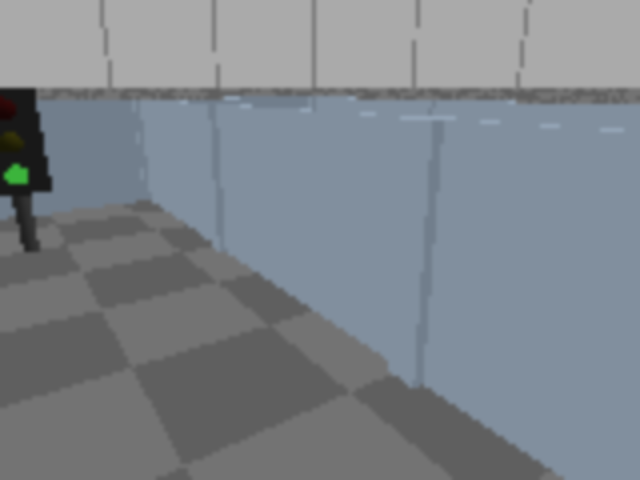traffic_light: (0, 78, 64, 263)
